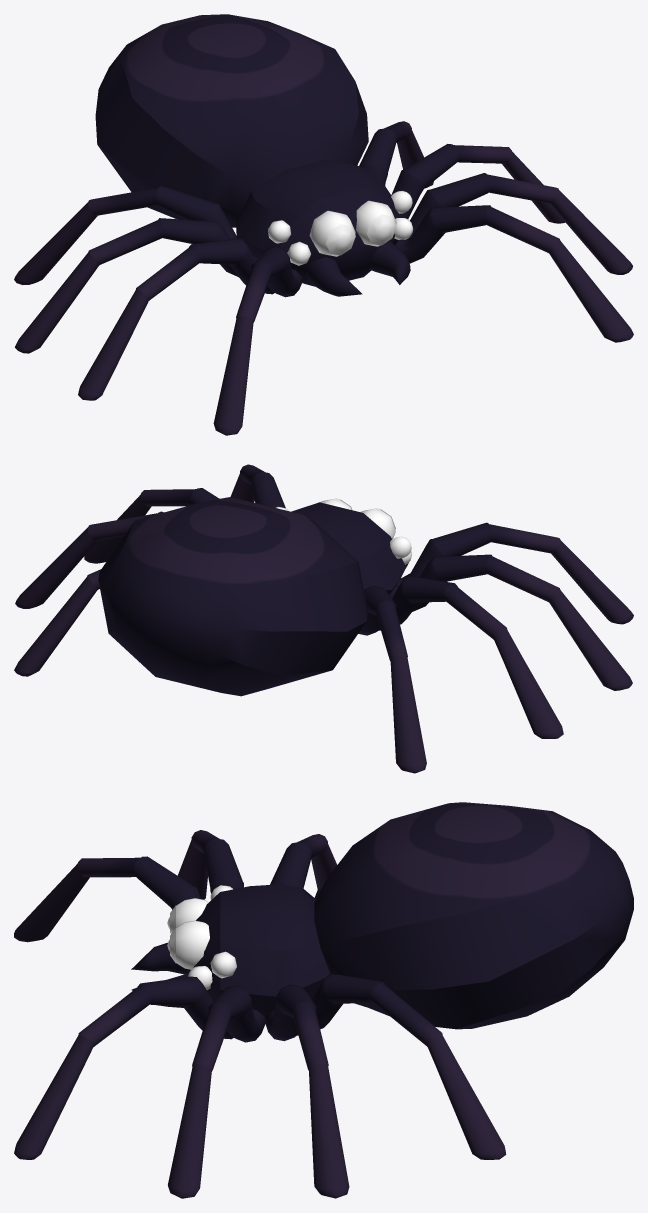
File: SpiderBlankEyes.fbx
3 renders of one model, top to bottom at view 1: azimuth 30°, elevation 25°; view 2: azimuth 150°, elevation 25°; view 3: azimuth 270°, elevation 25°, orthographic. The views are drawn at different scales.
Parts seen in each view (by area): view 1: Spider; view 2: Spider; view 3: Spider.
Boxes of the visible parts, <box> form: Spider: <box>14,14,633,435</box>; Spider: <box>14,464,633,773</box>; Spider: <box>14,802,633,1198</box>.
Size of the model in its own units: 94.29 by 32.65 by 80.95.
Materials: 3 (3 with a texture image).
